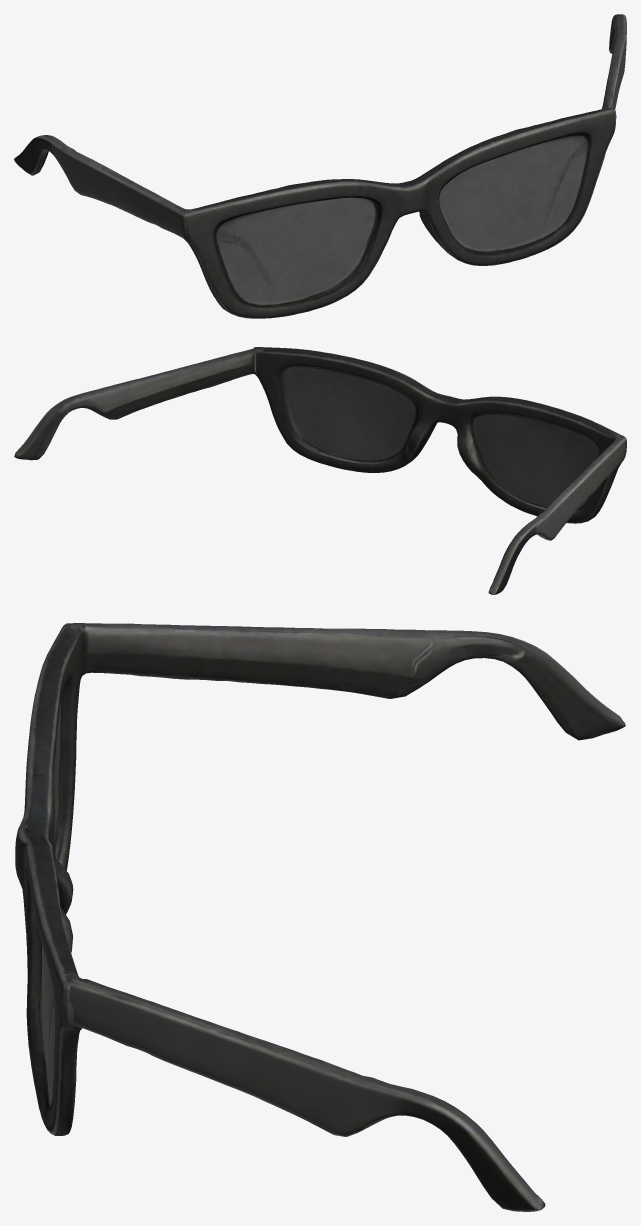
The model's file is Black_texture1.glb.
The picture shows the model from 3 angles, top to bottom: view 1: azimuth 30°, elevation 25°; view 2: azimuth 150°, elevation 25°; view 3: azimuth 270°, elevation 25°; orthographic projection. The views are drawn at different scales.
Visible parts, largest first — view 1: Glasses_Frame, Temple.L, Temple.R; view 2: Glasses_Frame, Temple.R, Temple.L; view 3: Temple.L, Temple.R, Glasses_Frame.
Part boxes in pixels (x1,y1,x2,y2): Glasses_Frame: [179, 106, 616, 318]; Temple.L: [14, 135, 184, 236]; Temple.R: [602, 14, 626, 109]; Glasses_Frame: [253, 347, 626, 523]; Temple.R: [14, 348, 256, 460]; Temple.L: [488, 439, 623, 594]; Temple.L: [78, 623, 625, 740]; Temple.R: [69, 978, 545, 1211]; Glasses_Frame: [15, 623, 85, 1135].
Bounding box in the file's own units: 7.67 × 1.59 × 4.
1 material, 1 textured.
